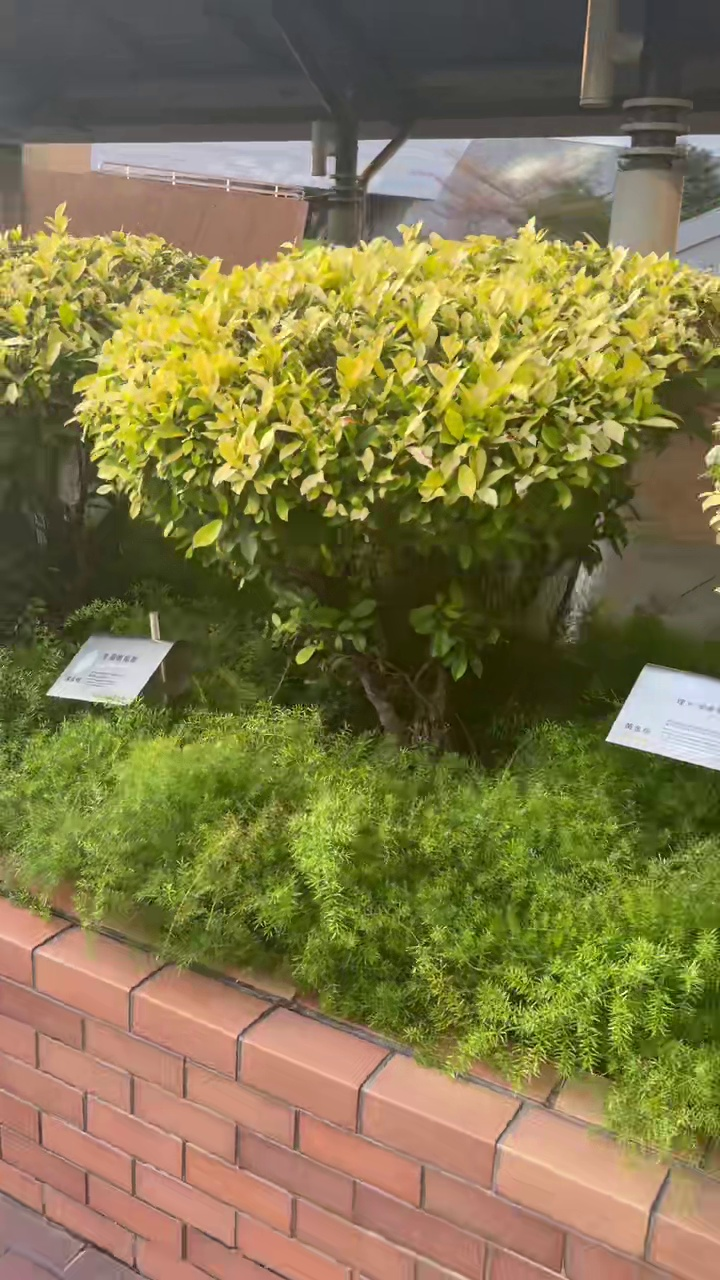Golden-leaves Fig: (76, 225, 719, 743)
